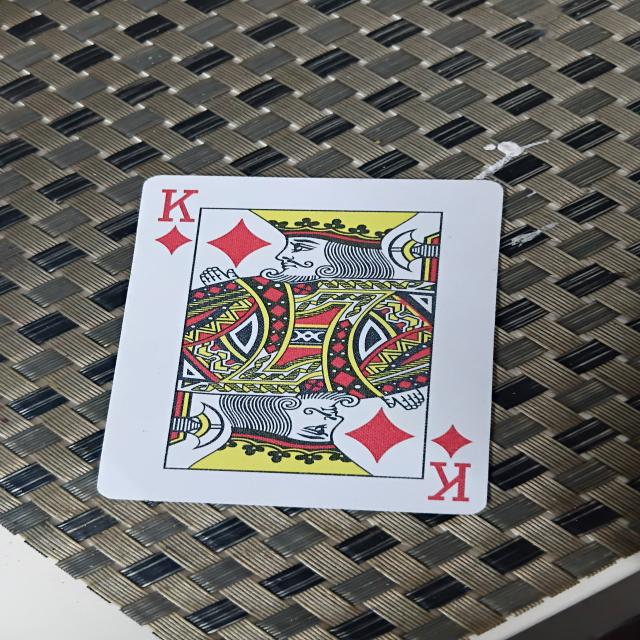KC: (90, 173, 498, 516)
